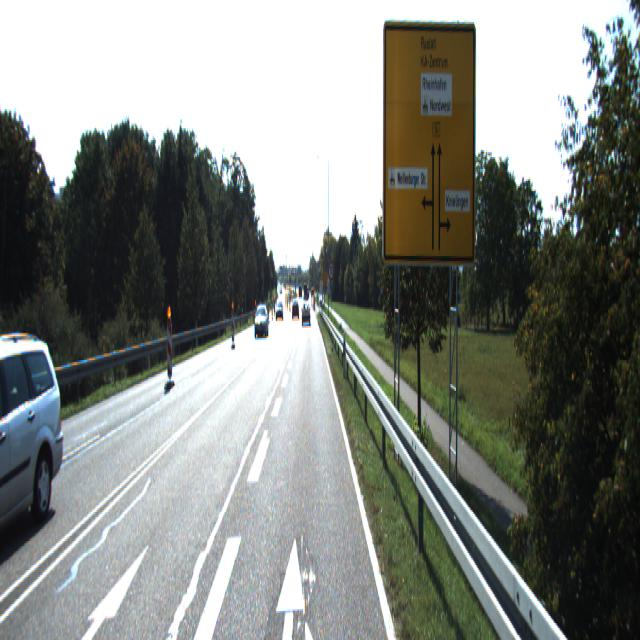Car: (0, 332, 76, 559), (254, 303, 269, 340), (302, 302, 310, 324)
